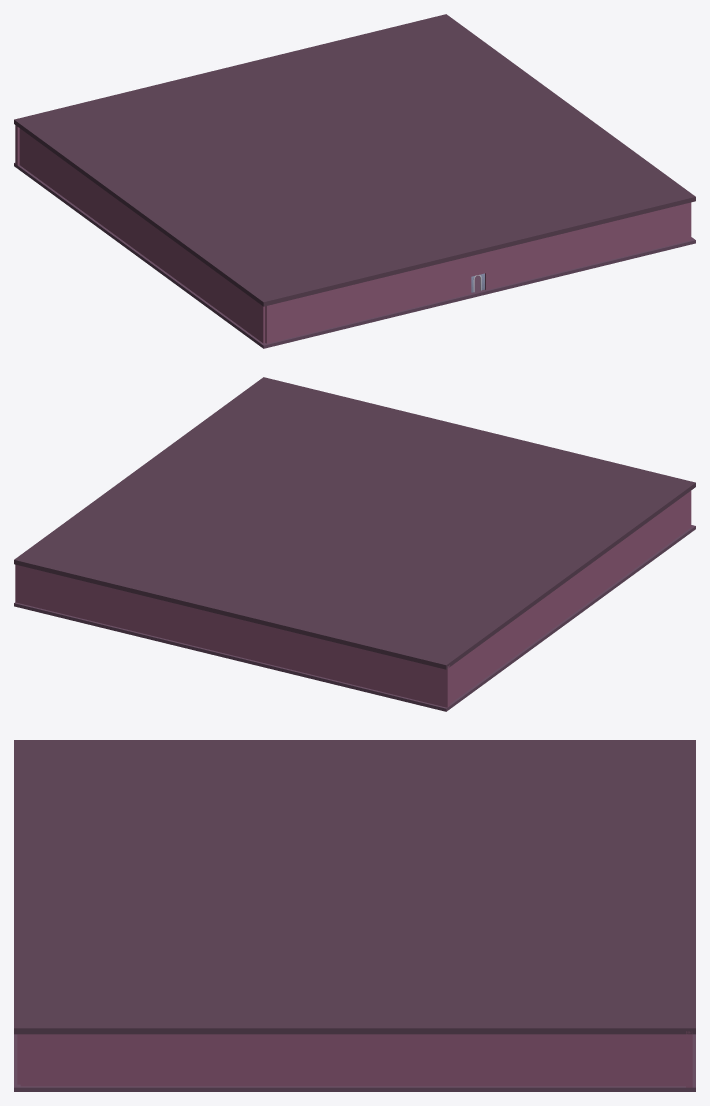
The model's file is world.glb.
3 views of the same model, one above another, from view 1: azimuth 30°, elevation 25°; view 2: azimuth 150°, elevation 25°; view 3: azimuth 270°, elevation 25° (orthographic). The views are drawn at different scales.
Visible parts, largest first — view 1: Ceiling, Wall_W, Wall_S_L, Wall_S_R, Terrain; view 2: Ceiling, Wall_N, Wall_W, Terrain; view 3: Ceiling, Wall_E, Terrain.
Boxes of the visible parts, left/top/right/bottom form: Ceiling: left=14, top=14, right=695, bottom=306; Wall_W: left=19, top=128, right=265, bottom=343; Wall_S_L: left=265, top=256, right=471, bottom=343; Wall_S_R: left=485, top=202, right=690, bottom=289; Terrain: left=14, top=163, right=695, bottom=348; Ceiling: left=14, top=377, right=695, bottom=669; Wall_N: left=15, top=564, right=449, bottom=707; Wall_W: left=450, top=491, right=691, bottom=703; Terrain: left=14, top=525, right=695, bottom=711; Ceiling: left=14, top=740, right=695, bottom=1034; Wall_E: left=20, top=1034, right=685, bottom=1086; Terrain: left=14, top=1034, right=695, bottom=1091.
Size of the model in its own units: 71.4 by 7.35 by 71.4.
Materials: 56 (10 with a texture image).
